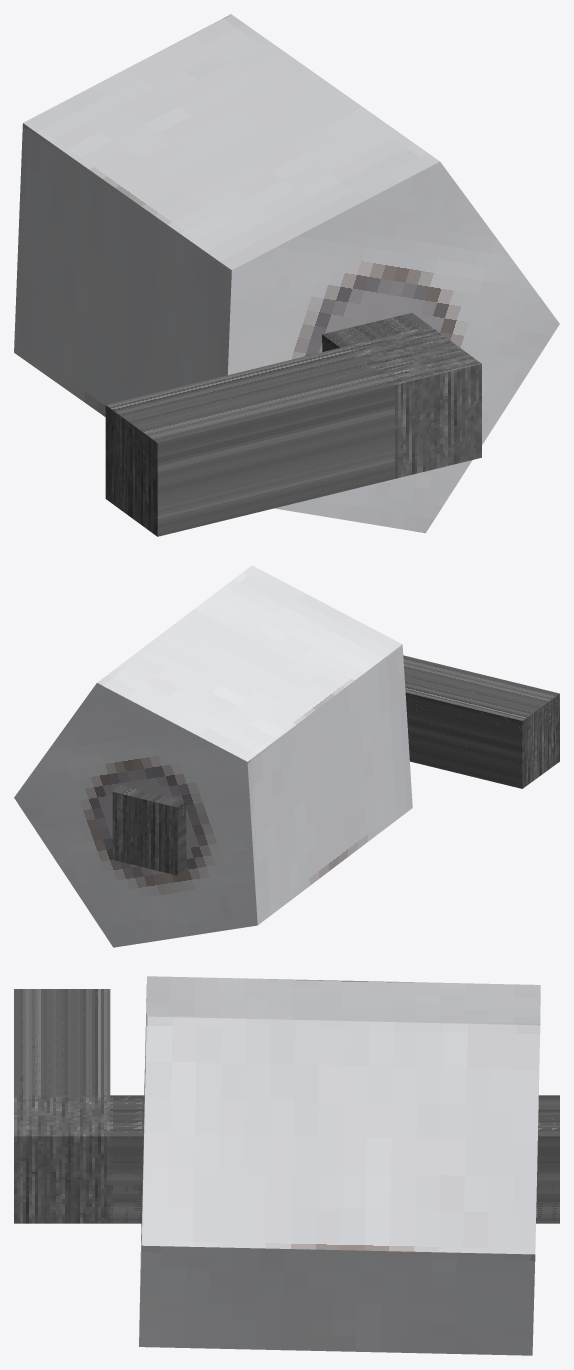
File: LooRoll.glb
The picture shows the model from 3 angles, top to bottom: view 1: azimuth 30°, elevation 25°; view 2: azimuth 150°, elevation 25°; view 3: azimuth 270°, elevation 25°; orthographic projection. The views are drawn at different scales.
Parts seen in each view (by area): view 1: Cube; view 2: Cube; view 3: Cube.
Boxes of the visible parts, x1,y1,x2,y2 form: Cube: (14,14,559,536); Cube: (14,565,559,947); Cube: (14,976,559,1355).
Bounding box in the file's own units: 1.15 × 0.866 × 1.24.
2 materials, 2 textured.
